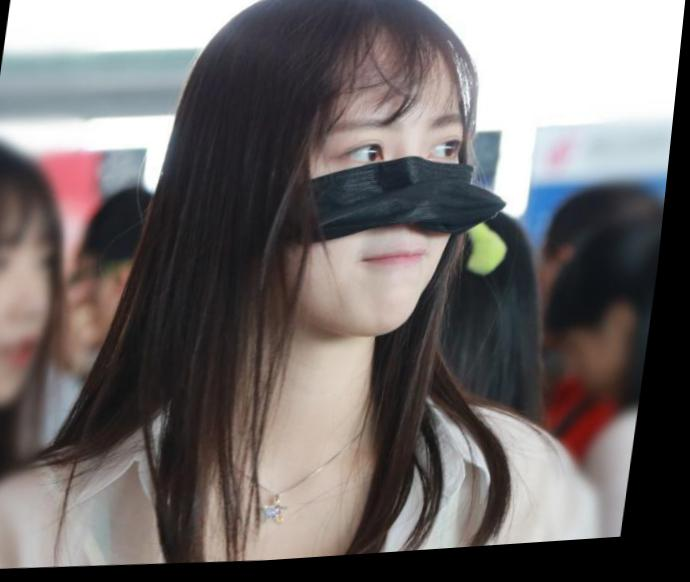NONE: (1, 213, 70, 418)
WRONG: (255, 102, 521, 361)
